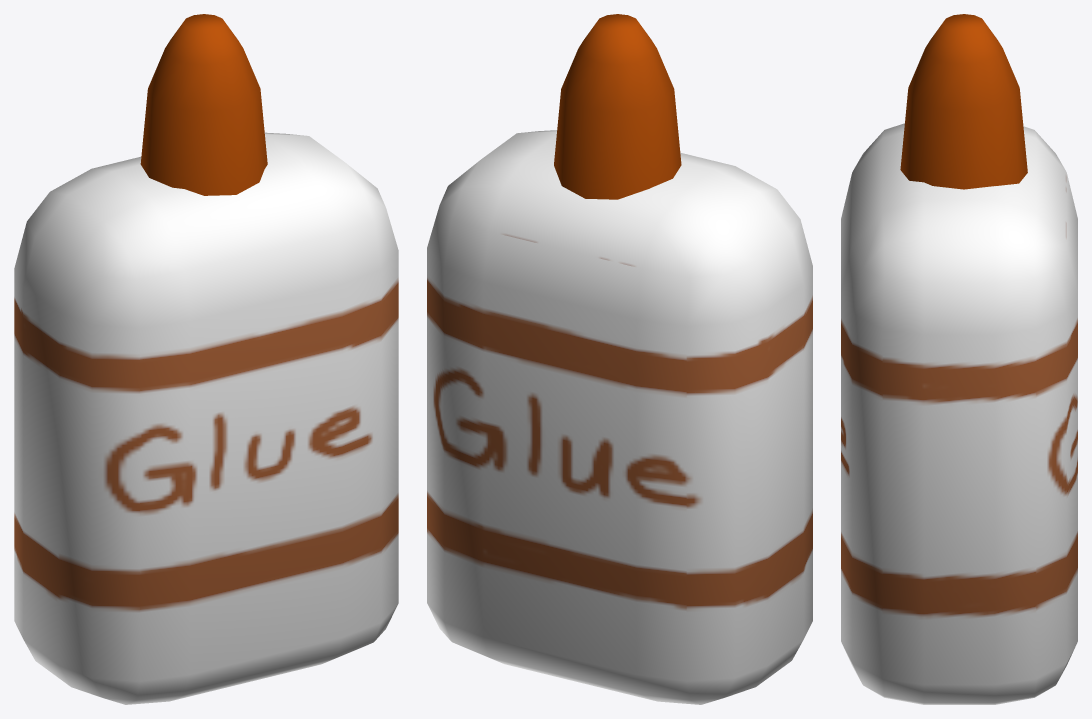
File: glue-bottle.fbx
The picture shows the model from 3 angles, left to right: view 1: azimuth 30°, elevation 25°; view 2: azimuth 150°, elevation 25°; view 3: azimuth 270°, elevation 25°; orthographic projection.
Visible parts, largest first — view 1: Glue Bottle; view 2: Glue Bottle; view 3: Glue Bottle.
Boxes of the visible parts, <box> form: Glue Bottle: <box>14,14,398,704</box>; Glue Bottle: <box>427,14,812,704</box>; Glue Bottle: <box>841,14,1077,704</box>.
Size of the model in its own units: 7.67 by 14.13 by 4.81.
